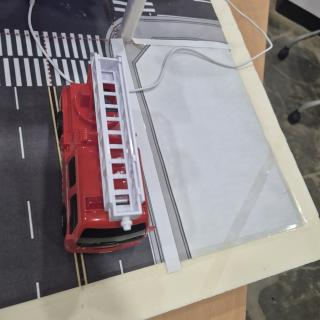Fire_truck: (56, 53, 155, 253)
